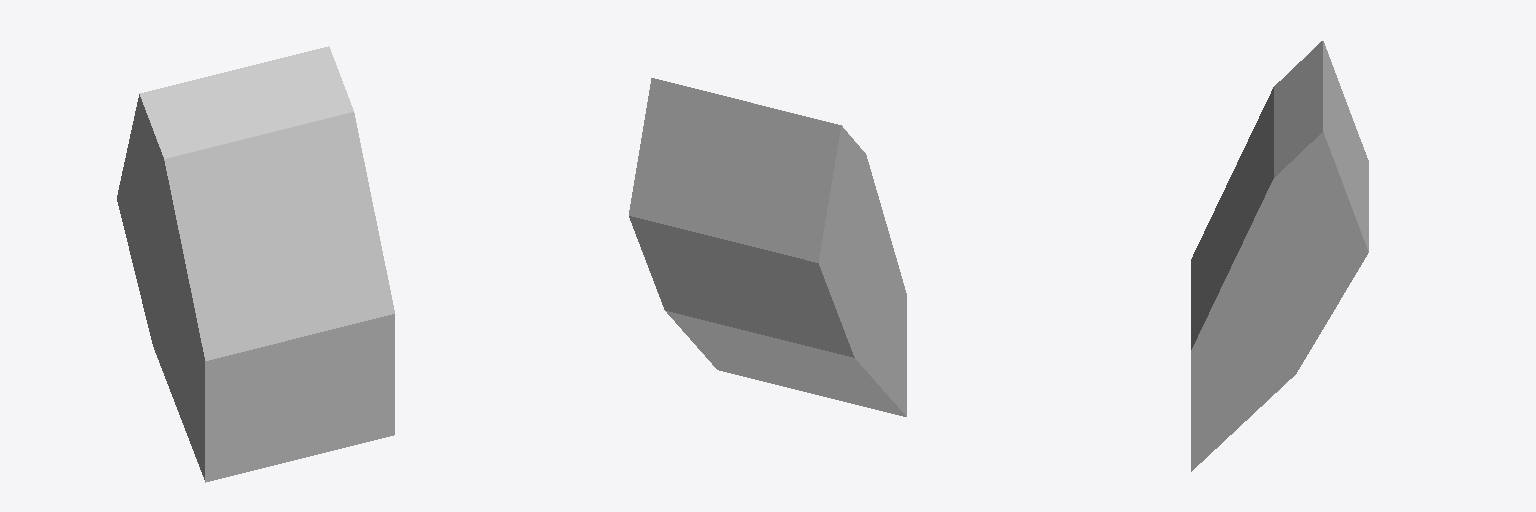
Rendered from rafti_finger_collision_2.obj.
The picture shows the model from 3 angles: view 1: azimuth 30°, elevation 25°; view 2: azimuth 150°, elevation 25°; view 3: azimuth 270°, elevation 25°; orthographic projection.
Visible parts, largest first — view 1: Cylinder.003; view 2: Cylinder.003; view 3: Cylinder.003.
Boxes of the visible parts, box(x1,y1,x2,y2) form: Cylinder.003: box(117, 46, 394, 482); Cylinder.003: box(629, 78, 906, 416); Cylinder.003: box(1191, 41, 1368, 471).
Bounding box in the file's own units: 0.0363 × 0.0624 × 0.0294.